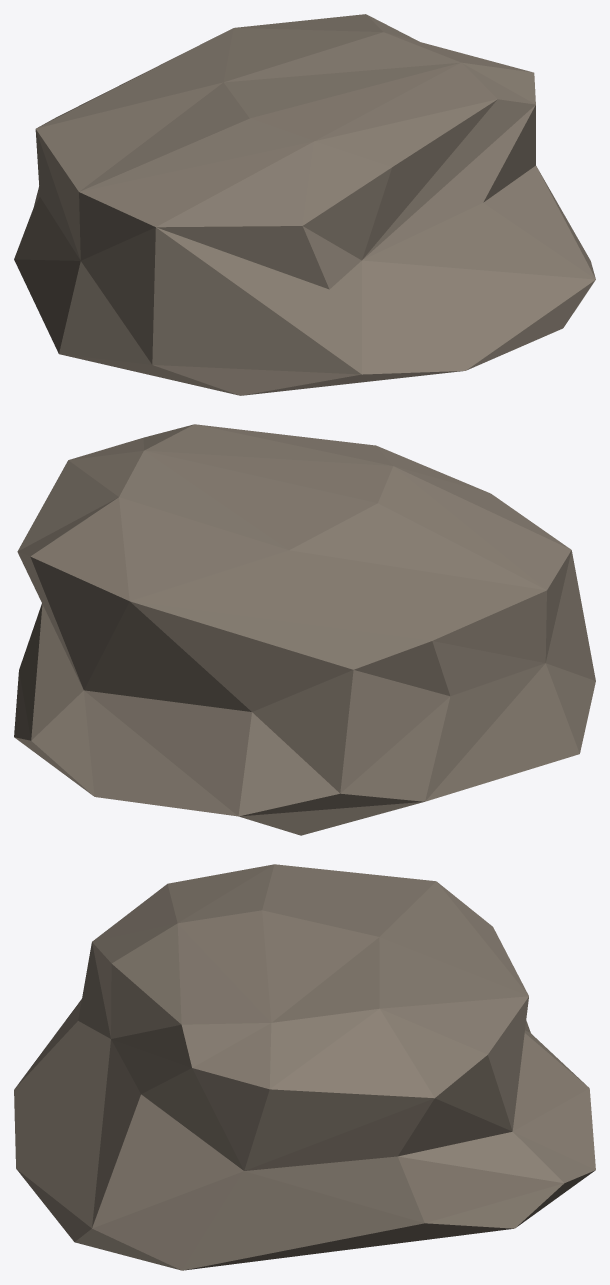
The model's file is SM_Env_Rock_02.fbx.
3 views of the same model, one above another, from view 1: azimuth 30°, elevation 25°; view 2: azimuth 150°, elevation 25°; view 3: azimuth 270°, elevation 25° (orthographic). The views are drawn at different scales.
Visible parts, largest first — view 1: SM_Env_Rock_02; view 2: SM_Env_Rock_02; view 3: SM_Env_Rock_02.
Part boxes in pixels (bbox=[...]): SM_Env_Rock_02: bbox=[14, 14, 595, 395]; SM_Env_Rock_02: bbox=[14, 424, 595, 835]; SM_Env_Rock_02: bbox=[14, 864, 595, 1270].
Size of the model in its own units: 235 by 99.34 by 225.
